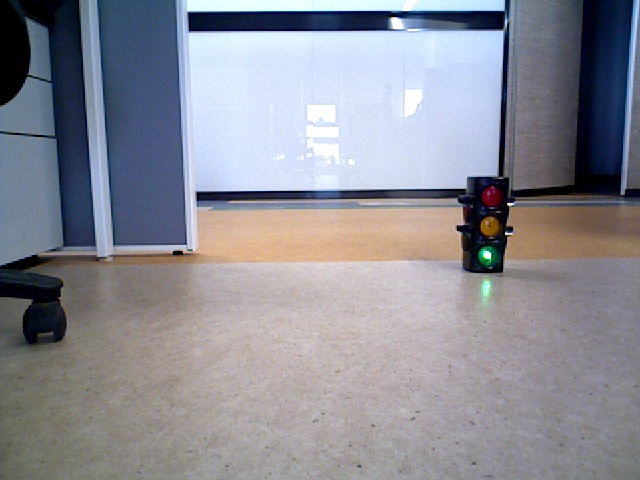green: (465, 177, 505, 270)
